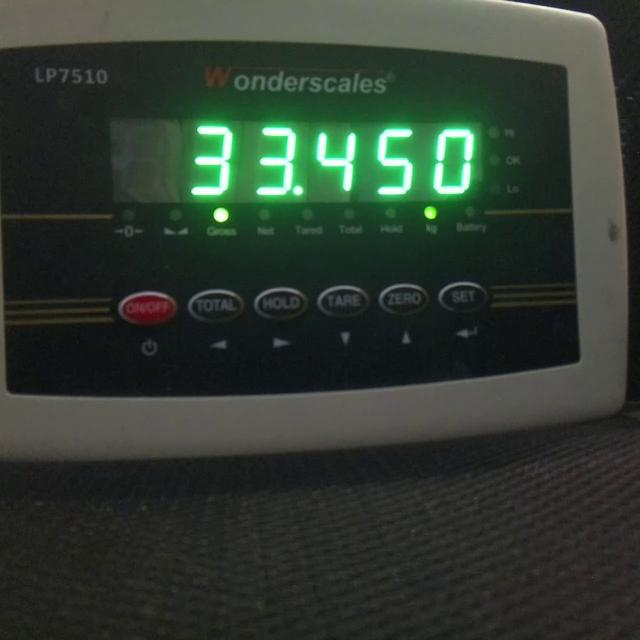.: (291, 184, 304, 197)
0: (434, 128, 475, 195)
3: (256, 118, 299, 204), (192, 124, 234, 196)
4: (315, 130, 356, 194)
5: (375, 127, 414, 195)
